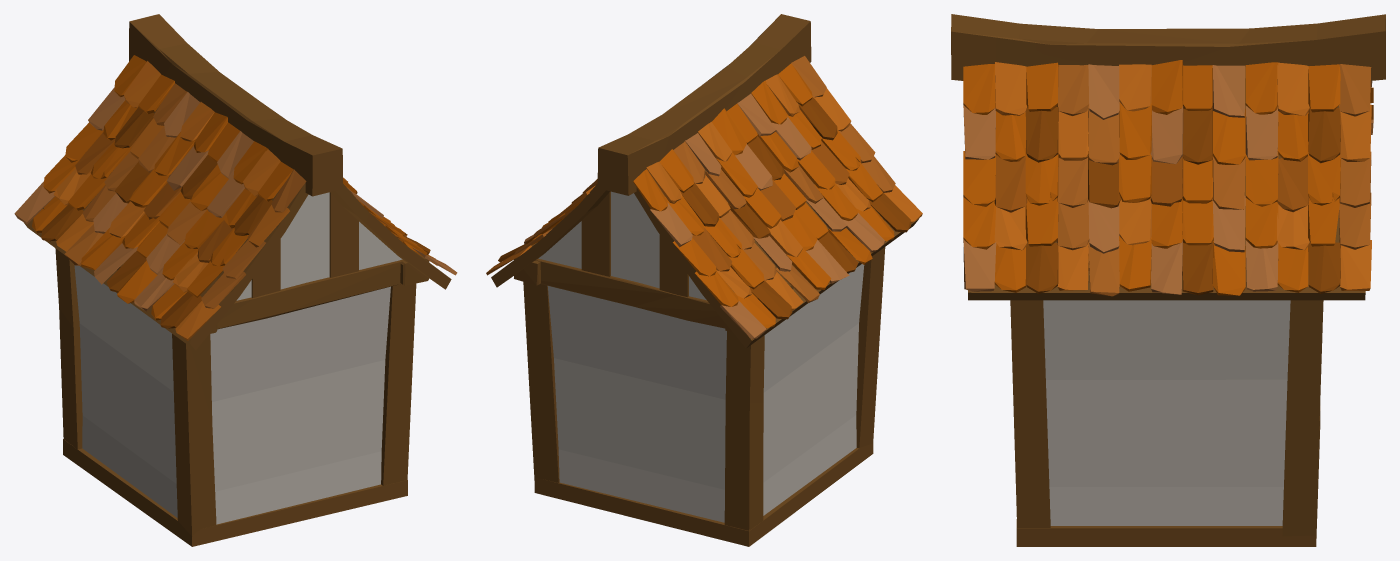
File: SmallHouse_07.fbx
The picture shows the model from 3 angles, left to right: view 1: azimuth 30°, elevation 25°; view 2: azimuth 150°, elevation 25°; view 3: azimuth 270°, elevation 25°; orthographic projection. The views are drawn at different scales.
Visible parts, largest first — view 1: SmallHouse_07; view 2: SmallHouse_07; view 3: SmallHouse_07.
Part boxes in pixels (left/top/right/bottom): SmallHouse_07: left=14, top=14, right=457, bottom=546; SmallHouse_07: left=486, top=14, right=922, bottom=546; SmallHouse_07: left=951, top=14, right=1385, bottom=546.
Bounding box in the file's own units: 366 × 486 × 415.
